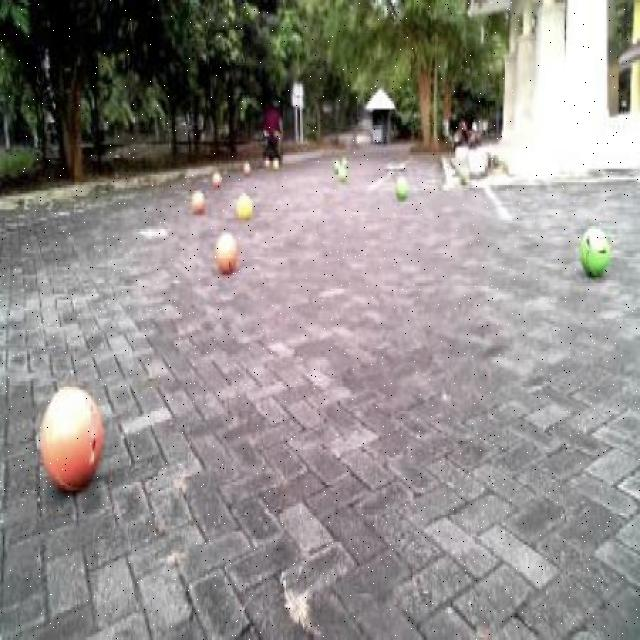buoy: (33, 378, 109, 502), (576, 220, 614, 283), (212, 224, 240, 279), (233, 188, 256, 223), (392, 170, 412, 203), (187, 185, 207, 215)
